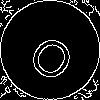O: (25, 25, 83, 85)
